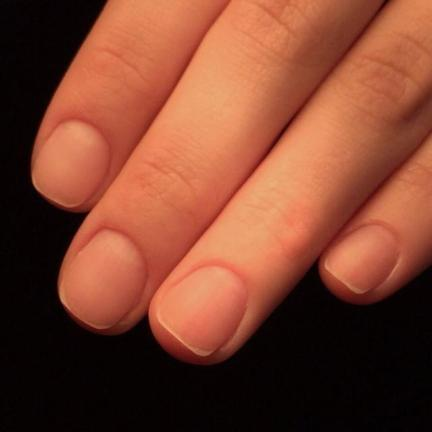Nail: (58, 228, 148, 330), (156, 265, 247, 356), (31, 120, 112, 208), (324, 224, 400, 294)
